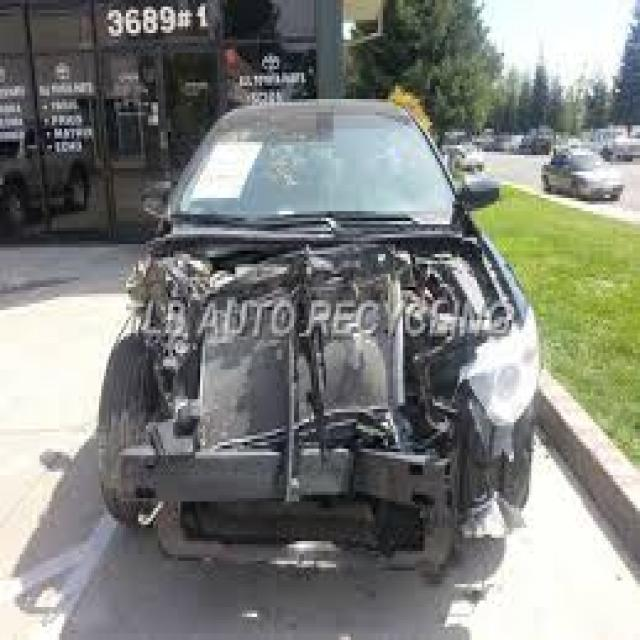severe: (110, 216, 523, 590)
